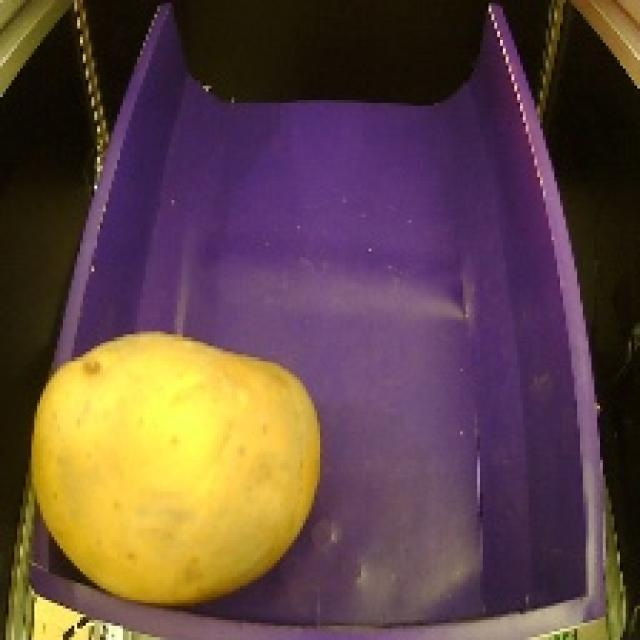full_potato: (19, 319, 334, 615)
